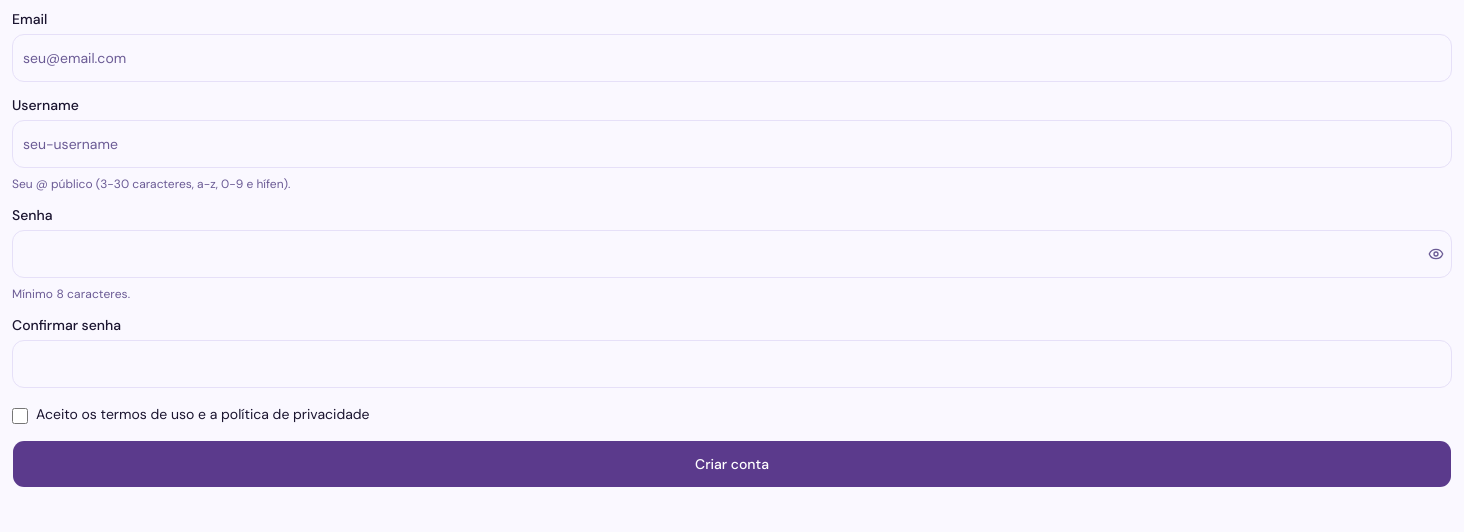
Test case: <SignupForm> — validação live de username (AC1) › mostra "Este username já está em uso" quando indisponível
In the field labelled "Username": point(732, 144) [12,120,1452,168], type "ocupado-user"
Wait 300 ms
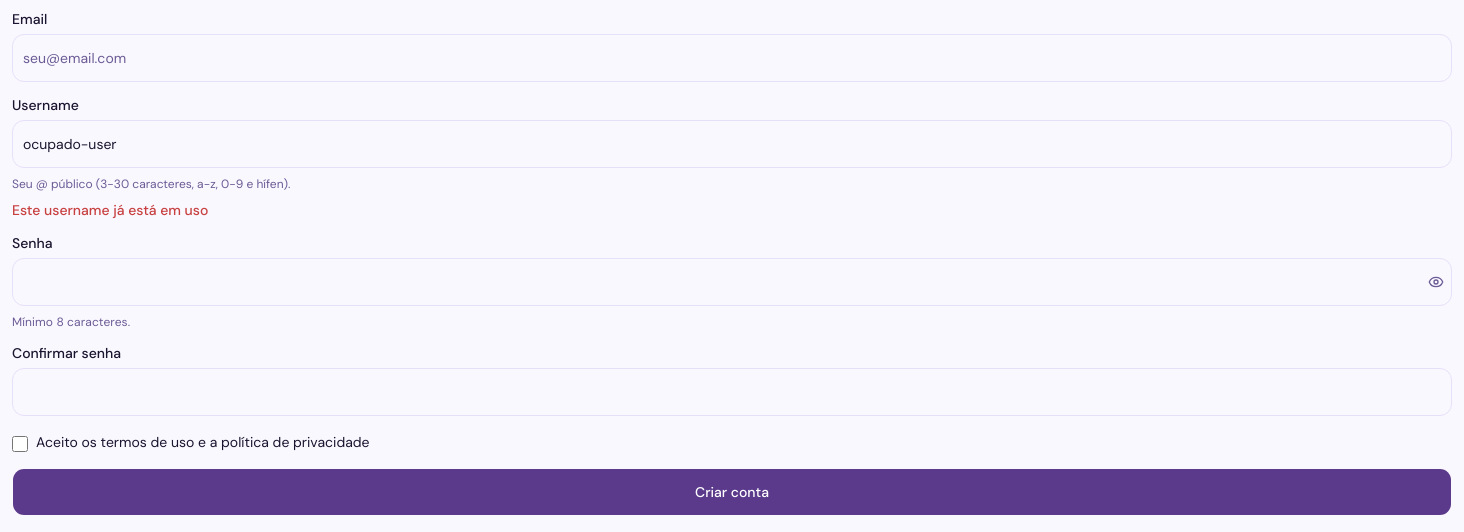
Result: the text "Este username já está em uso" is shown at [12,201,208,219]
